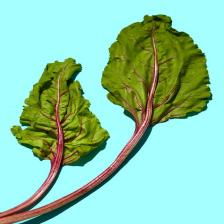green: (1, 15, 212, 224), (0, 58, 109, 218)
